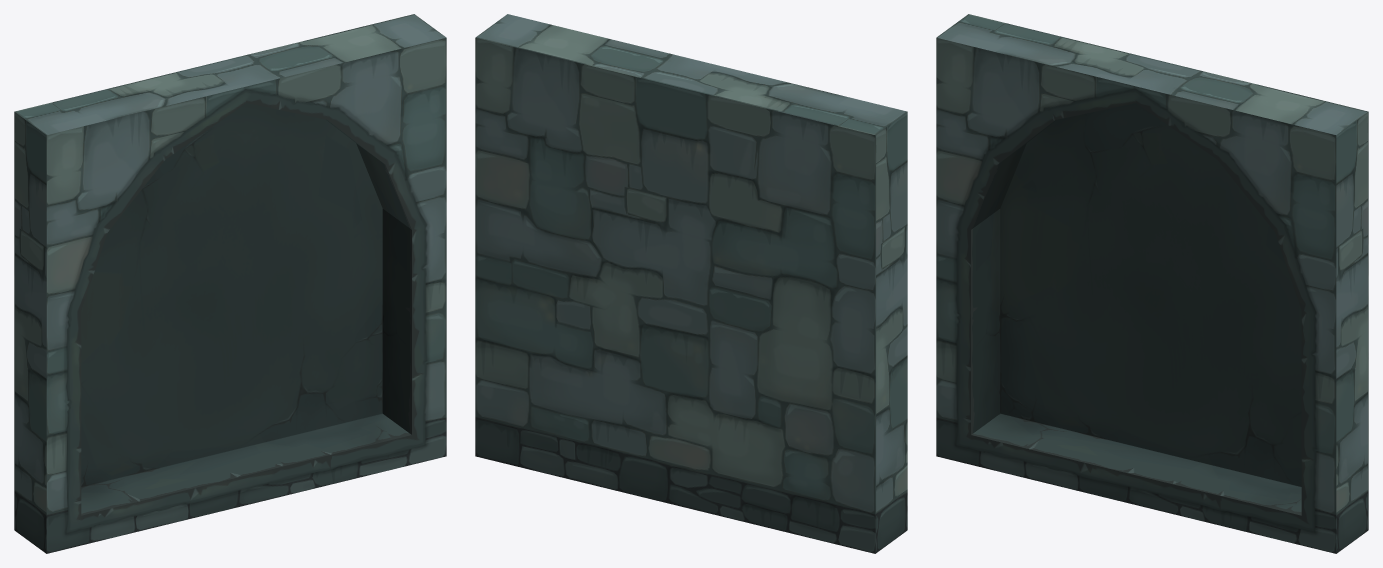
The model's file is Dg_01_wall_003.FBX.
The picture shows the model from 3 angles, left to right: view 1: azimuth 30°, elevation 25°; view 2: azimuth 150°, elevation 25°; view 3: azimuth 330°, elevation 25°; orthographic projection.
Parts seen in each view (by area): view 1: Dg_01_wall_003; view 2: Dg_01_wall_003; view 3: Dg_01_wall_003.
Part boxes in pixels (x1=…): Dg_01_wall_003: x1=14, y1=14, x2=446, y2=553; Dg_01_wall_003: x1=475, y1=14, x2=907, y2=553; Dg_01_wall_003: x1=936, y1=14, x2=1368, y2=553.
Bounding box in the file's own units: 5 × 5 × 0.7.
